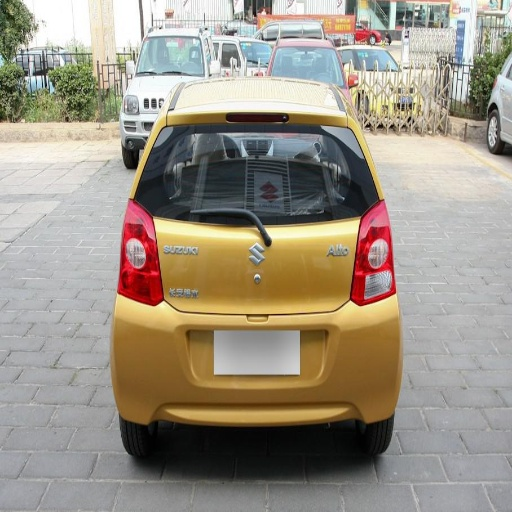back_bumper: (111, 295, 397, 426)
back_glass: (146, 165, 247, 218), (273, 47, 332, 80)
back_left_door: (291, 126, 353, 215)
trunk: (155, 211, 357, 369), (163, 99, 322, 159)
